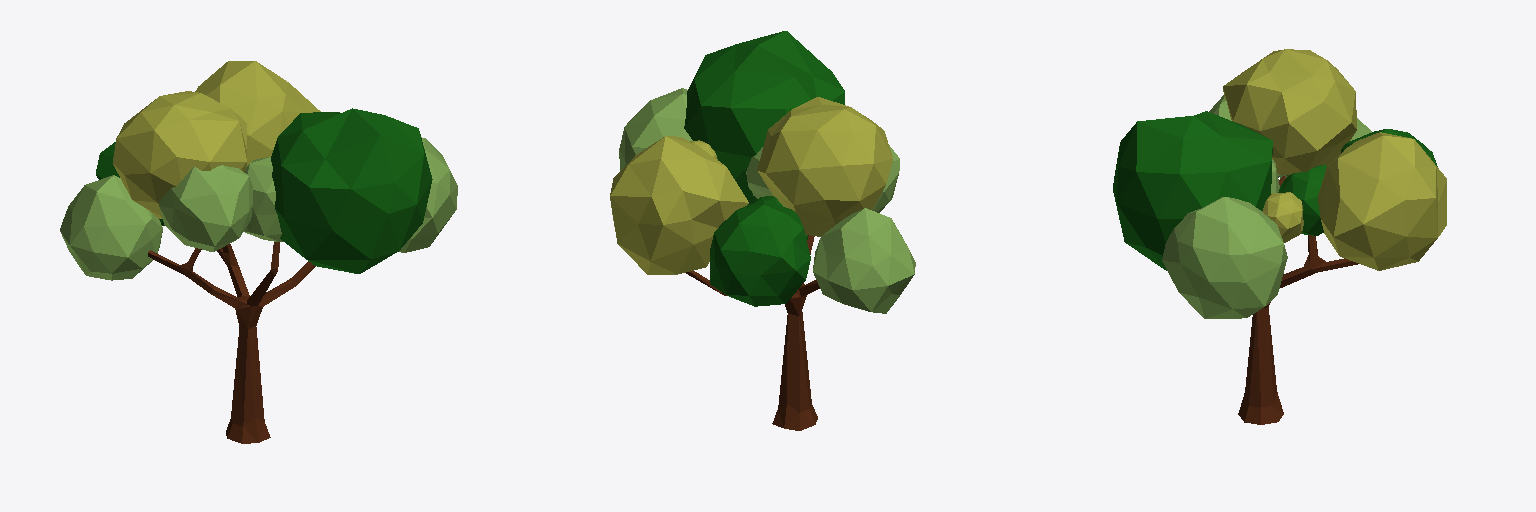
Rendered from normal_tree.obj.
The picture shows the model from 3 angles: view 1: azimuth 30°, elevation 25°; view 2: azimuth 150°, elevation 25°; view 3: azimuth 270°, elevation 25°; orthographic projection.
Visible parts, largest first — view 1: Plane_Plane.003; view 2: Plane_Plane.003; view 3: Plane_Plane.003.
Boxes of the visible parts, x1=… form: Plane_Plane.003: x1=60, y1=61, x2=457, y2=443; Plane_Plane.003: x1=610, y1=31, x2=915, y2=430; Plane_Plane.003: x1=1113, y1=49, x2=1446, y2=424.
Size of the model in its own units: 6.13 by 5.91 by 5.33.